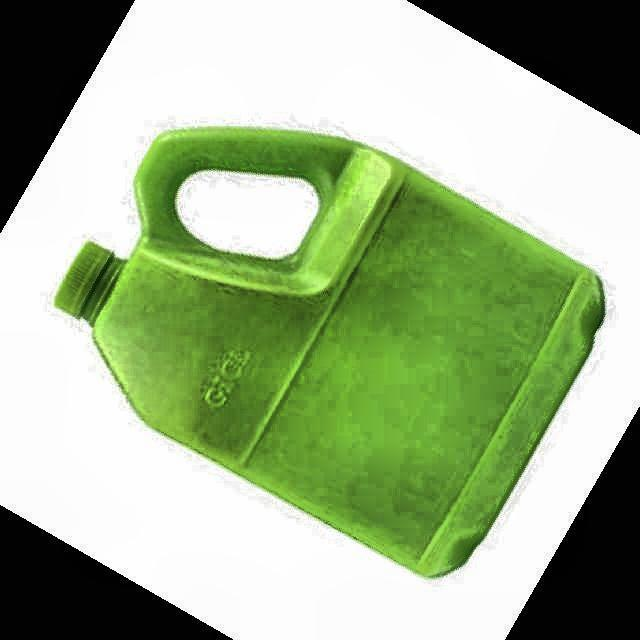plastic: (56, 128, 604, 576)
